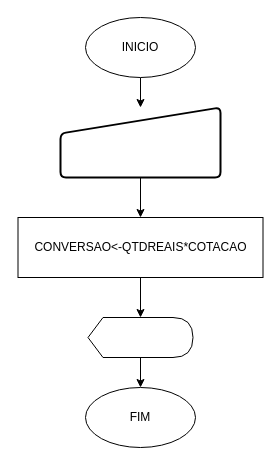
Some shapes in this 280 by 465 pixel diagram are drawn without their labels. The shapes that lost their labels are listed below. From the top down, each one's centre as x and y in pixels, then its label:
At (140,142): "QTDREAIS, COTACAO".
At (140,337): "CONVERSAO".
